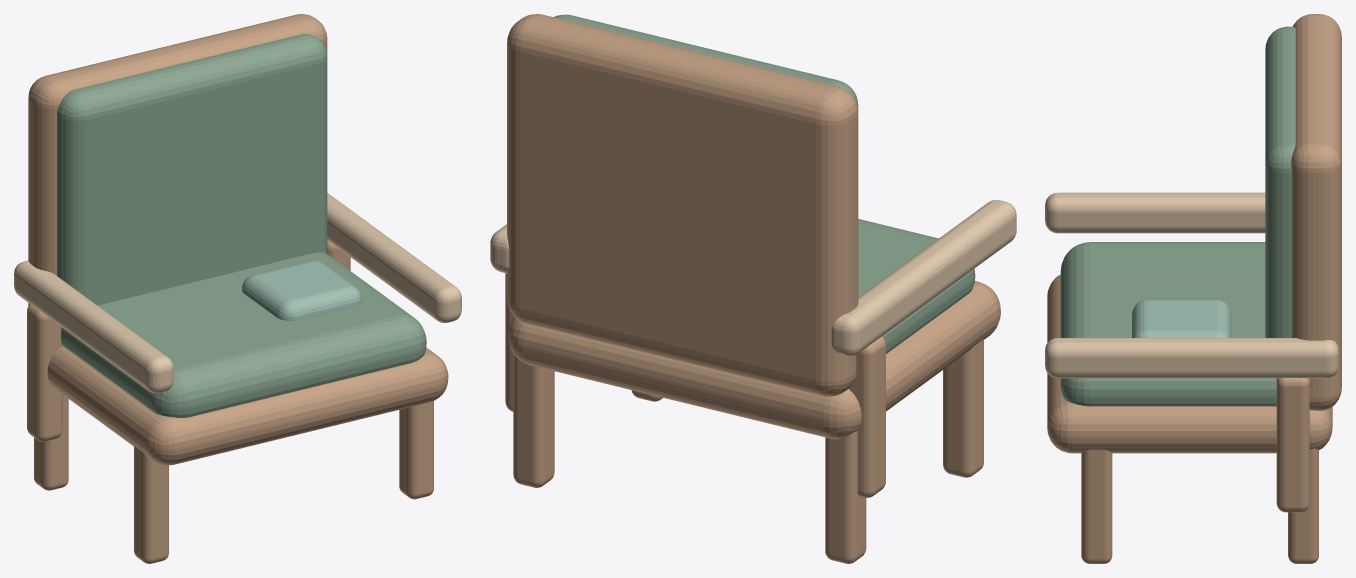
The model's file is arm-chair.glb.
3 renders of one model, left to right at view 1: azimuth 30°, elevation 25°; view 2: azimuth 150°, elevation 25°; view 3: azimuth 270°, elevation 25°, orthographic. The views are drawn at different scales.
Visible parts, largest first — view 1: back_cushion_3, seat_cushion_1, wood_rich_2, wood_rich_0, wood_light_4, green_5; view 2: wood_rich_2, wood_rich_0, wood_light_4, seat_cushion_1, back_cushion_3; view 3: wood_rich_2, seat_cushion_1, wood_light_4, wood_rich_0, back_cushion_3, green_5.
Boxes of the visible parts, bbox=[...] form: back_cushion_3: bbox=[57, 33, 327, 305]; seat_cushion_1: bbox=[61, 252, 426, 417]; wood_rich_2: bbox=[27, 14, 433, 563]; wood_rich_0: bbox=[47, 345, 448, 465]; wood_light_4: bbox=[14, 193, 461, 393]; green_5: bbox=[242, 260, 362, 320]; wood_rich_2: bbox=[505, 14, 983, 563]; wood_rich_0: bbox=[508, 281, 1000, 439]; wood_light_4: bbox=[490, 200, 1016, 356]; seat_cushion_1: bbox=[858, 219, 975, 353]; back_cushion_3: bbox=[554, 14, 858, 109]; wood_rich_2: bbox=[1081, 14, 1341, 563]; seat_cushion_1: bbox=[1060, 242, 1276, 406]; wood_light_4: bbox=[1045, 192, 1338, 378]; wood_rich_0: bbox=[1047, 274, 1332, 453]; back_cushion_3: bbox=[1265, 26, 1295, 337]; green_5: bbox=[1132, 299, 1231, 337].
Size of the model in its own units: 1.81 by 2.21 by 1.44.
